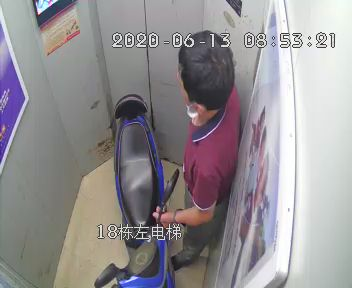Electric-bicycle: (92, 93, 179, 288)
